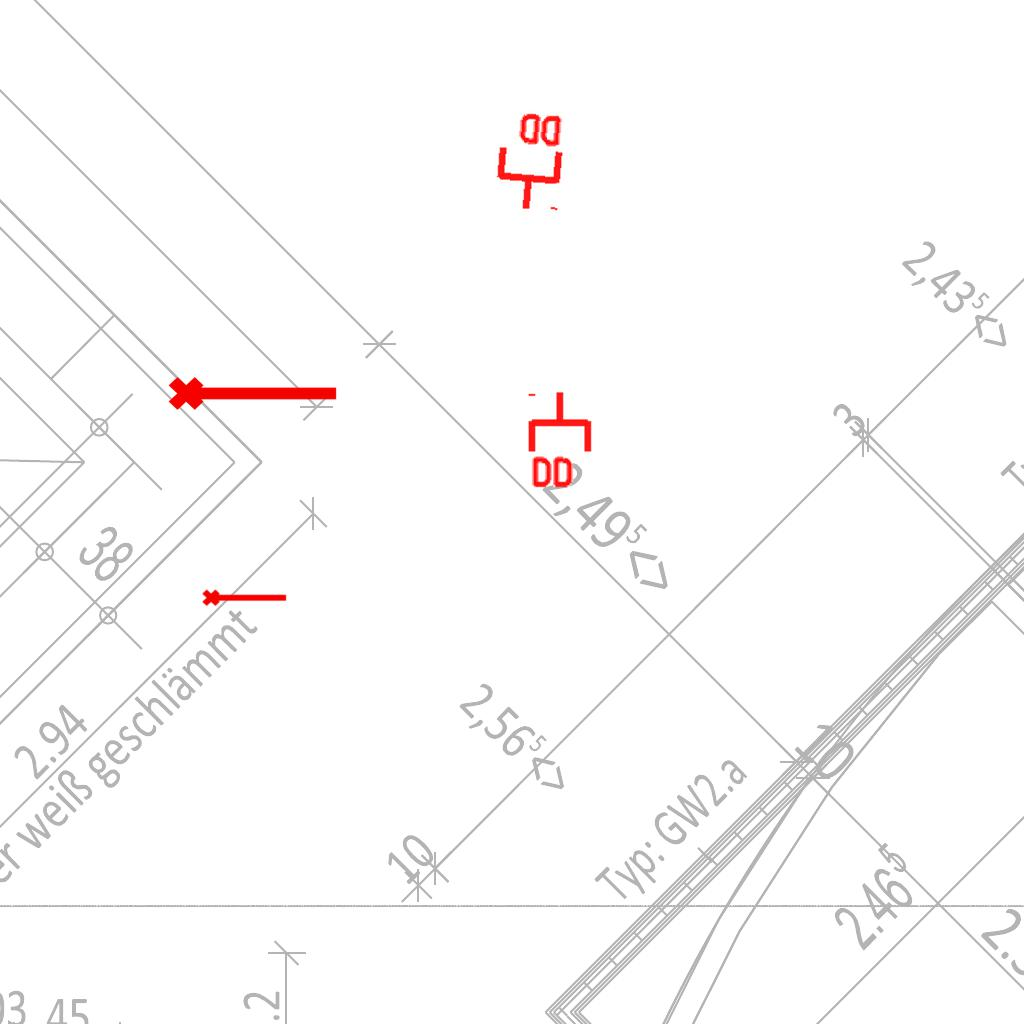ASR_Ansaugoeffnung: (166, 368, 342, 414), (201, 585, 289, 608)
Datenanschluss_zweifach: (489, 106, 568, 215), (527, 389, 596, 492)
